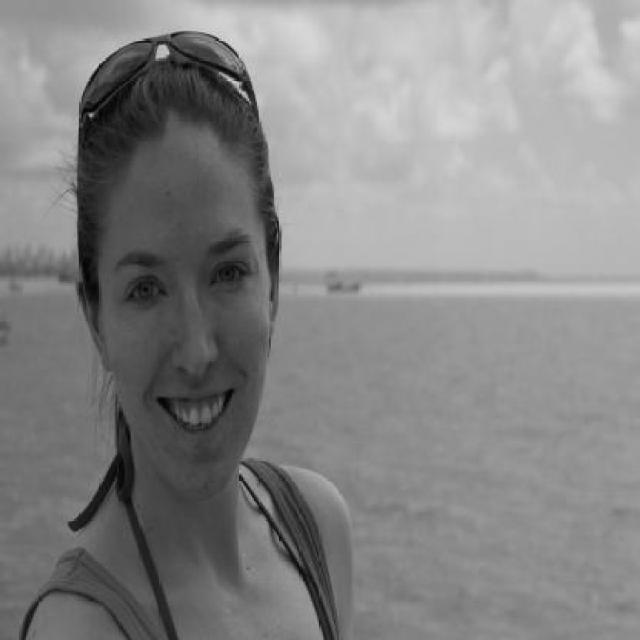face_nomask: (108, 210, 277, 448)
glasses: (78, 27, 265, 128)
person: (0, 17, 356, 640)
